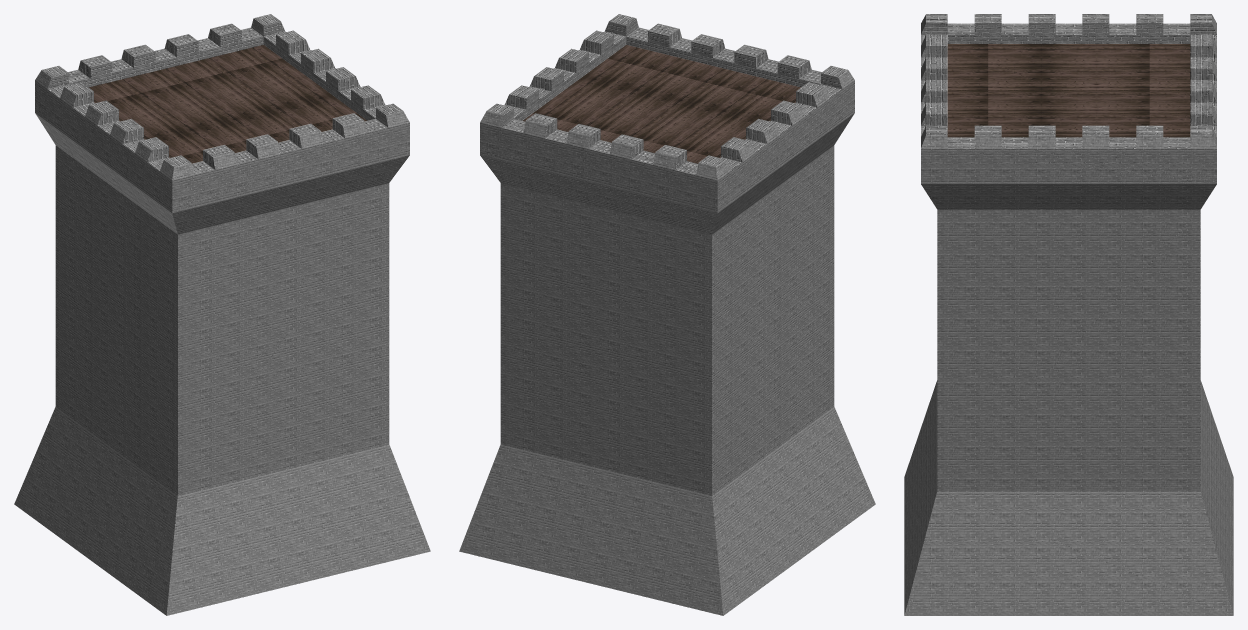
The model's file is TowerWide.fbx.
3 views of the same model, side by side, from view 1: azimuth 30°, elevation 25°; view 2: azimuth 150°, elevation 25°; view 3: azimuth 270°, elevation 25° (orthographic). The views are drawn at different scales.
Parts seen in each view (by area): view 1: TowerWide; view 2: TowerWide; view 3: TowerWide.
Boxes of the visible parts, <box> form: TowerWide: <box>14,14,430,615</box>; TowerWide: <box>459,14,875,615</box>; TowerWide: <box>904,14,1233,615</box>.
Bounding box in the file's own units: 1719 × 2720 × 1719.
